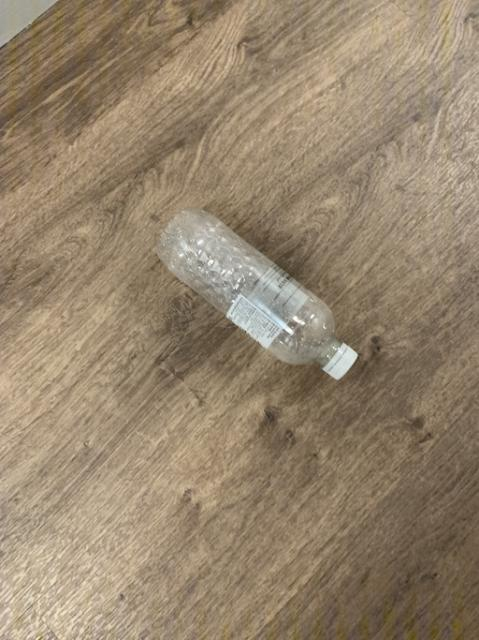plastic: (156, 208, 356, 377)
